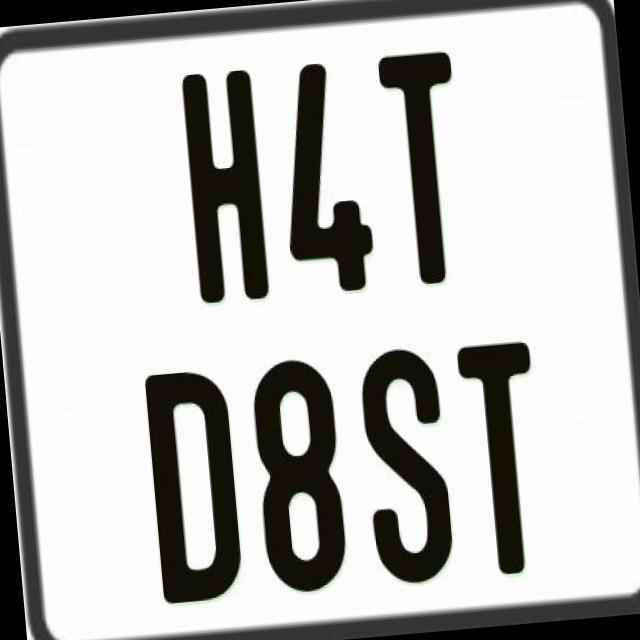4: (272, 54, 378, 296)
8: (246, 355, 346, 602)
D: (139, 364, 245, 602)
H: (178, 66, 274, 312)
S: (354, 346, 458, 594)
T: (456, 342, 554, 582), (378, 51, 473, 292)
